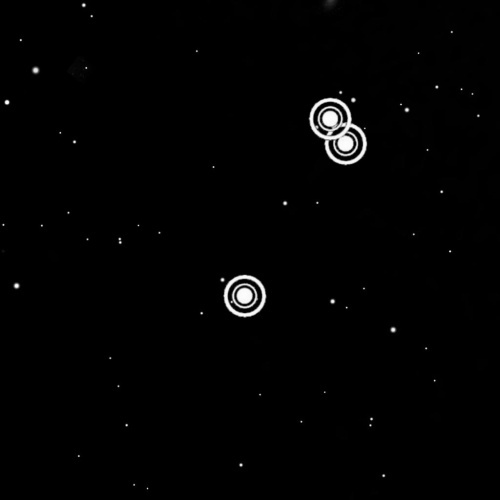canis_minor: (218, 93, 372, 325)
